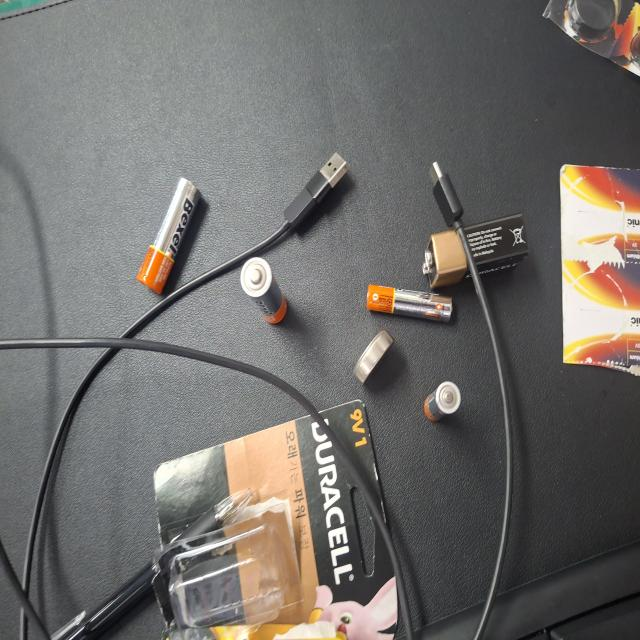9V: (159, 146, 218, 288)
AA: (132, 579, 223, 640), (190, 466, 245, 534)
AAA: (213, 248, 243, 362), (286, 240, 317, 291)
COIN: (246, 328, 288, 377)
